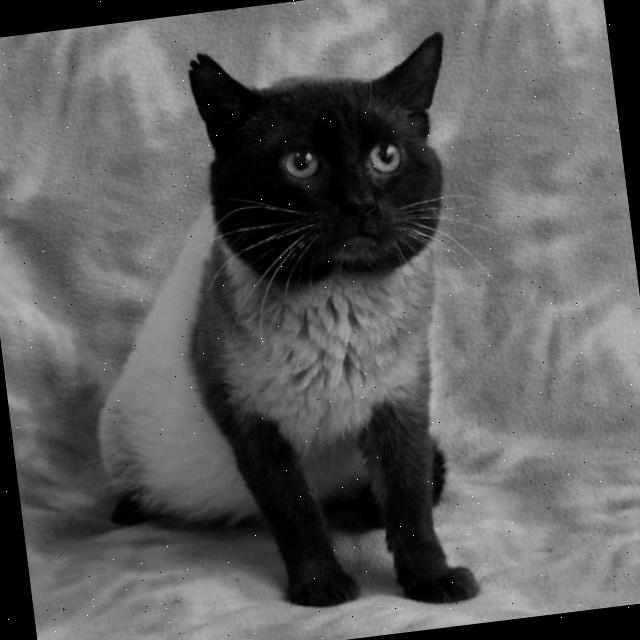siamese_cat: (175, 15, 480, 311)
